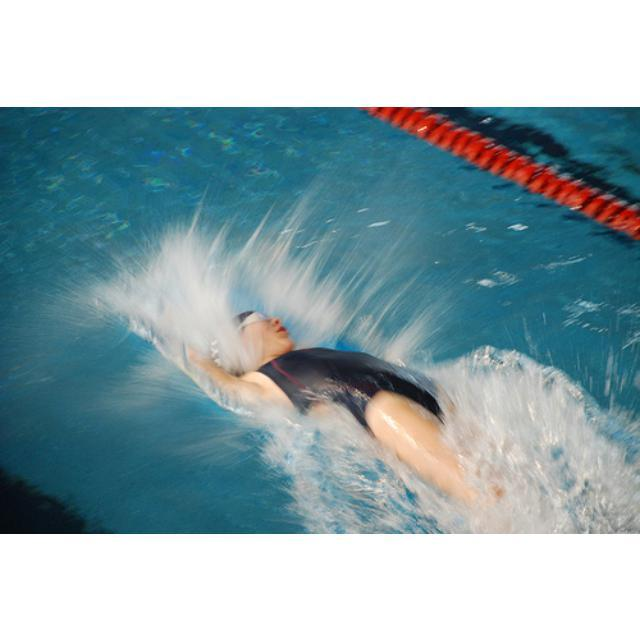human: (164, 299, 517, 531)
